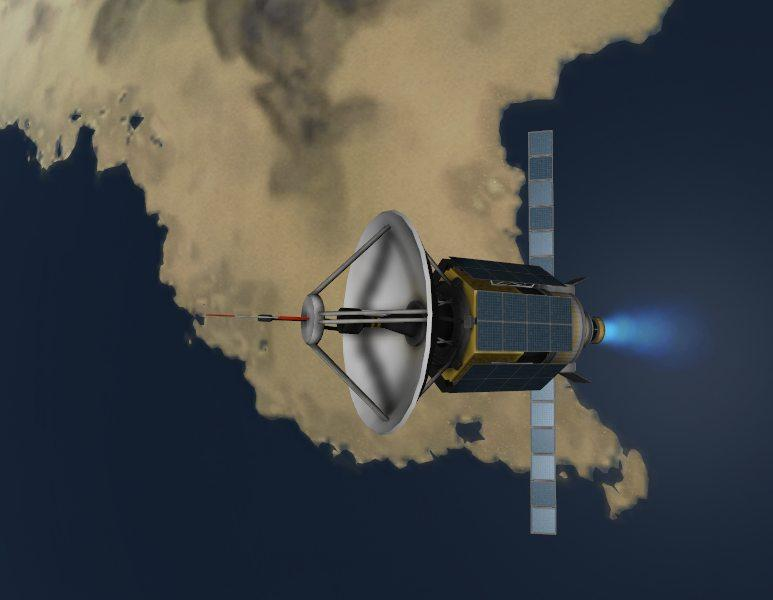antenna: (203, 207, 443, 437)
body: (434, 254, 588, 397)
solar: (472, 289, 576, 355), (528, 375, 559, 539), (525, 127, 556, 279), (448, 254, 569, 289), (448, 361, 570, 395)
